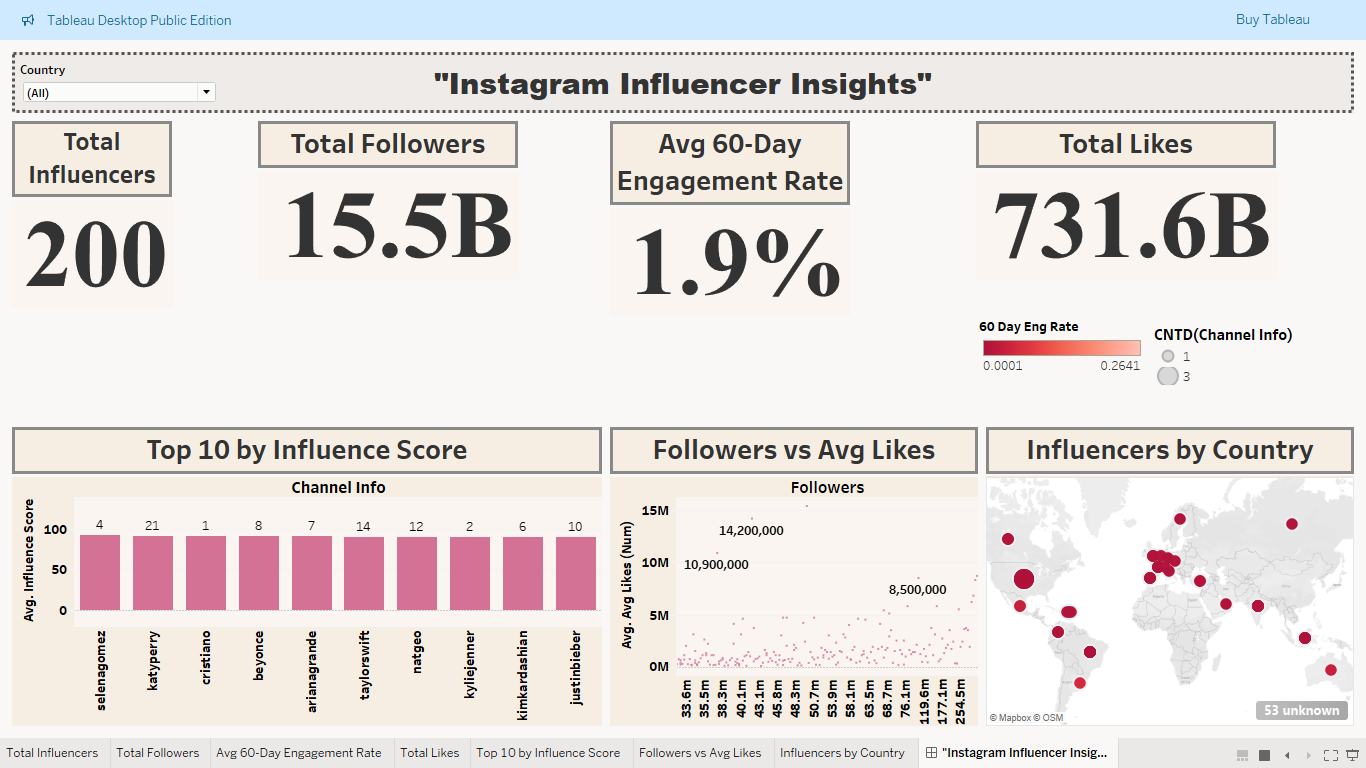

The dashboard page shown, as its layout file describes it:
{"tool":"tableau","page":{"name":"\"Instagram Influencer Insights\"","canvas":[1000,1000],"units":"permille","ordinal":0},"visuals":[{"type":"title","box":[6.9,14.7,986.1,126.8]},{"type":"filter","title":"Followers vs Avg Likes","param":"[federated.1uki4az13r39n016930yh0ndp5xj].[none:country:nk]","box":[14.7,29.4,145.5,95.6]},{"type":"worksheet","title":"Total Influencers","mark":"Automatic","box":[6.9,141.6,180,421.6]},{"type":"worksheet","title":"Total Followers","mark":"Automatic","box":[187,141.6,256.9,421.6]},{"type":"worksheet","title":"Avg 60-Day Engagement Rate","mark":"Automatic","box":[443.9,141.6,267.6,421.6]},{"type":"worksheet","title":"Total Likes","mark":"Automatic","box":[711.5,141.6,281.6,421.6]},{"type":"legend","title":"Influencers by Country","param":"[federated.1uki4az13r39n016930yh0ndp5xj].[none:60_day_eng_rate:qk]","box":[716.9,397.1,121.2,139.7]},{"type":"legend","title":"Influencers by Country","param":"[federated.1uki4az13r39n016930yh0ndp5xj].[ctd:channel_info:qk]","box":[845,406.2,128.1,136]},{"type":"worksheet","title":"Top 10 by Influence Score","mark":"Automatic","rows":["influence_score"],"cols":["channel_info"],"box":[6.9,563.1,436.9,422.2]},{"type":"worksheet","title":"Followers vs Avg Likes","mark":"Circle","rows":["Calculation_946881866378035201"],"cols":["followers"],"box":[443.9,563.1,274.6,422.1]},{"type":"worksheet","title":"Influencers by Country","mark":"Automatic","box":[718.4,563.1,274.7,422.1]}]}

Visuals, with their boxes on the dashboard's canvas, which has no fixed pixel size, in thousandths of its width and height (x1, y1, x2, y2). These are canvas units, not pixel positions in the 1366x768 screenshot, which may show the page scaled, cropped or inside an application window:
title: bbox=(7, 15, 993, 142)
"Followers vs Avg Likes" filter: bbox=(15, 29, 160, 125)
"Total Influencers" worksheet: bbox=(7, 142, 187, 563)
"Total Followers" worksheet: bbox=(187, 142, 444, 563)
"Avg 60-Day Engagement Rate" worksheet: bbox=(444, 142, 712, 563)
"Total Likes" worksheet: bbox=(712, 142, 993, 563)
"Influencers by Country" legend: bbox=(717, 397, 838, 537)
"Influencers by Country" legend: bbox=(845, 406, 973, 542)
"Top 10 by Influence Score" worksheet: bbox=(7, 563, 444, 985)
"Followers vs Avg Likes" worksheet (Circle marks): bbox=(444, 563, 718, 985)
"Influencers by Country" worksheet: bbox=(718, 563, 993, 985)
